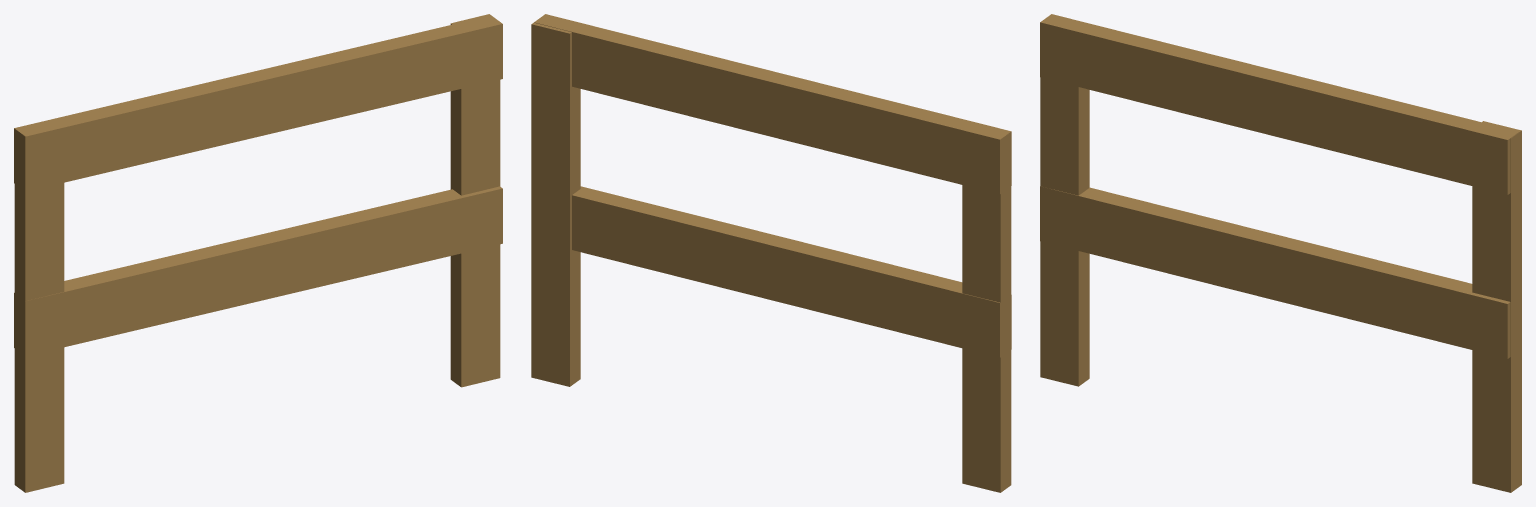
File: BridgeRail.fbx
3 views of the same model, side by side, from view 1: azimuth 30°, elevation 25°; view 2: azimuth 150°, elevation 25°; view 3: azimuth 330°, elevation 25° (orthographic).
Parts seen in each view (by area): view 1: polySurface123; view 2: polySurface123; view 3: polySurface123.
Boxes of the visible parts, <box> form: polySurface123: <box>14,14,502,492</box>; polySurface123: <box>531,14,1011,492</box>; polySurface123: <box>1040,14,1521,492</box>.
Size of the model in its own units: 2.56 by 1.84 by 0.1429.
